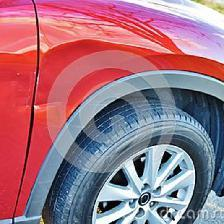dent: (17, 75, 67, 110)
